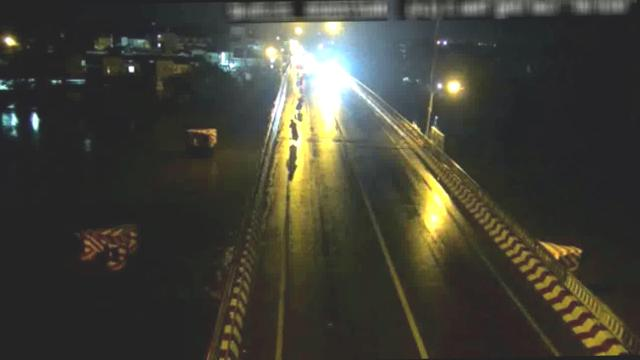Bike: (287, 114, 301, 143), (291, 94, 306, 111)
